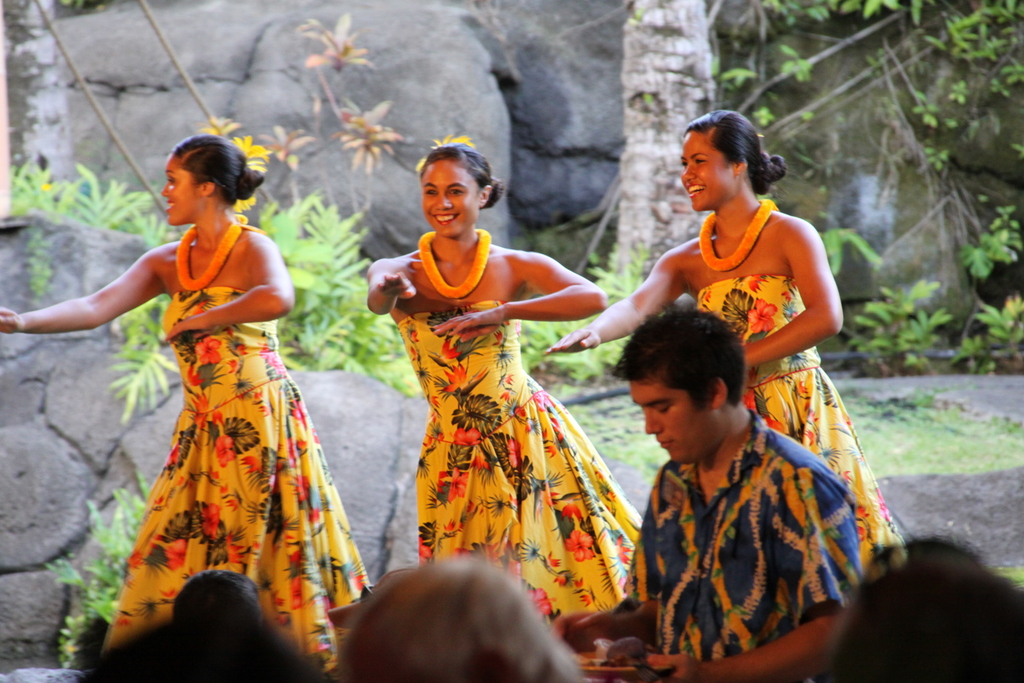Person: (73, 299, 1024, 683)
